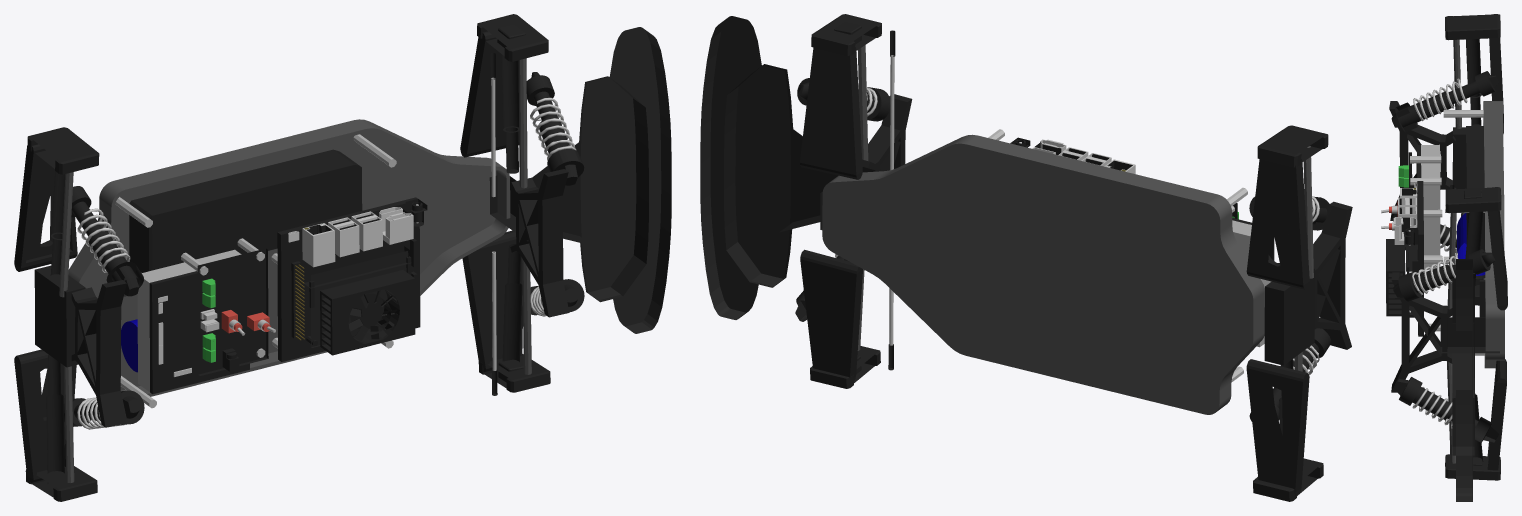
Rendered from roboracer_chassis.glb.
The picture shows the model from 3 angles, left to right: view 1: azimuth 30°, elevation 25°; view 2: azimuth 150°, elevation 25°; view 3: azimuth 270°, elevation 25°; orthographic projection. The views are drawn at different scales.
Parts seen in each view (by area): view 1: roboracer_chassis; view 2: roboracer_chassis; view 3: roboracer_chassis.
Boxes of the visible parts, left/top/right/bottom form: roboracer_chassis: left=14, top=14, right=671, bottom=501; roboracer_chassis: left=700, top=14, right=1352, bottom=501; roboracer_chassis: left=1381, top=14, right=1507, bottom=501.
Bounding box in the file's own units: 0.4494 × 0.2408 × 0.0984.
